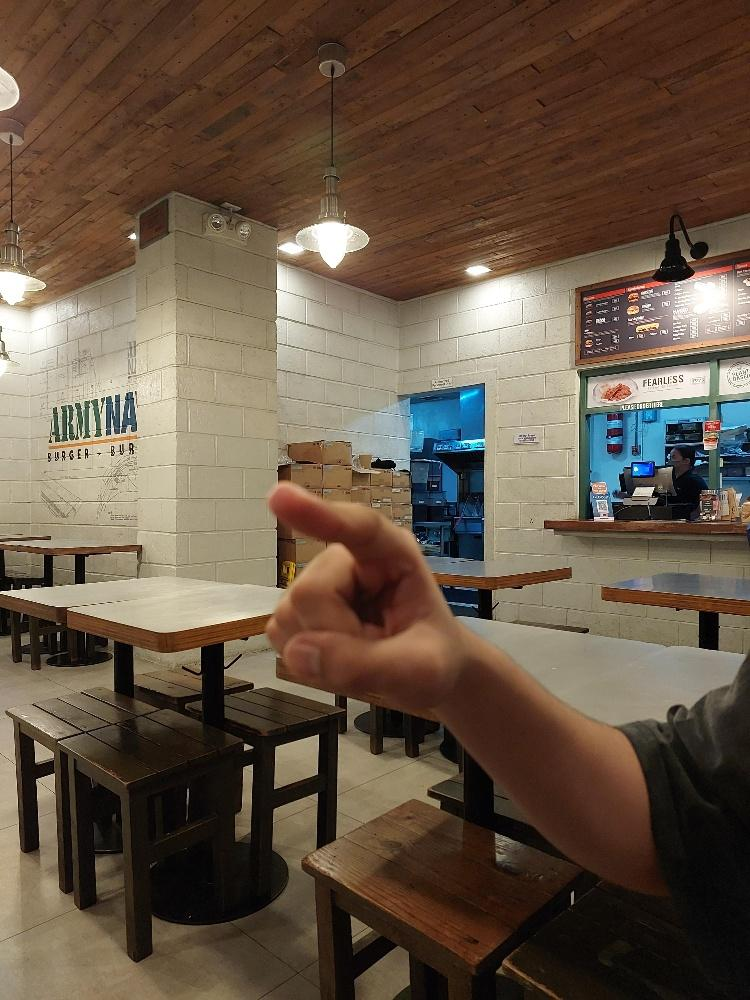z: (263, 478, 461, 715)
